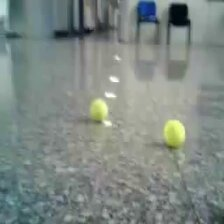tennis: (163, 120, 186, 144), (89, 99, 108, 121)
